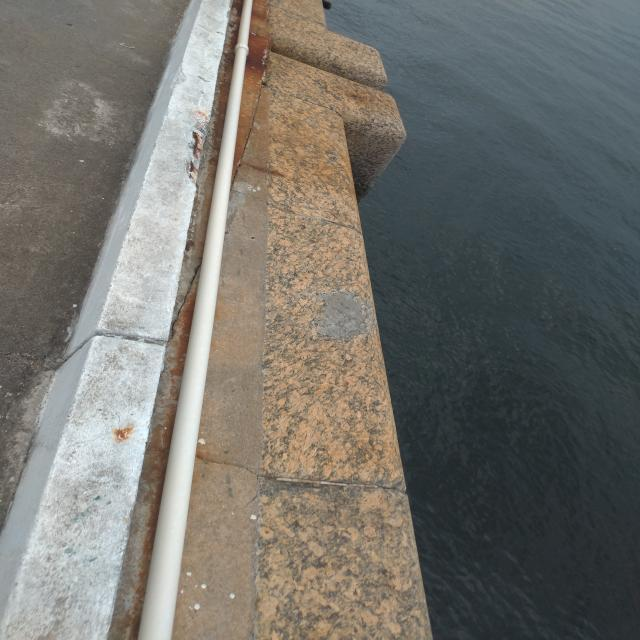gas: (138, 1, 254, 637)
